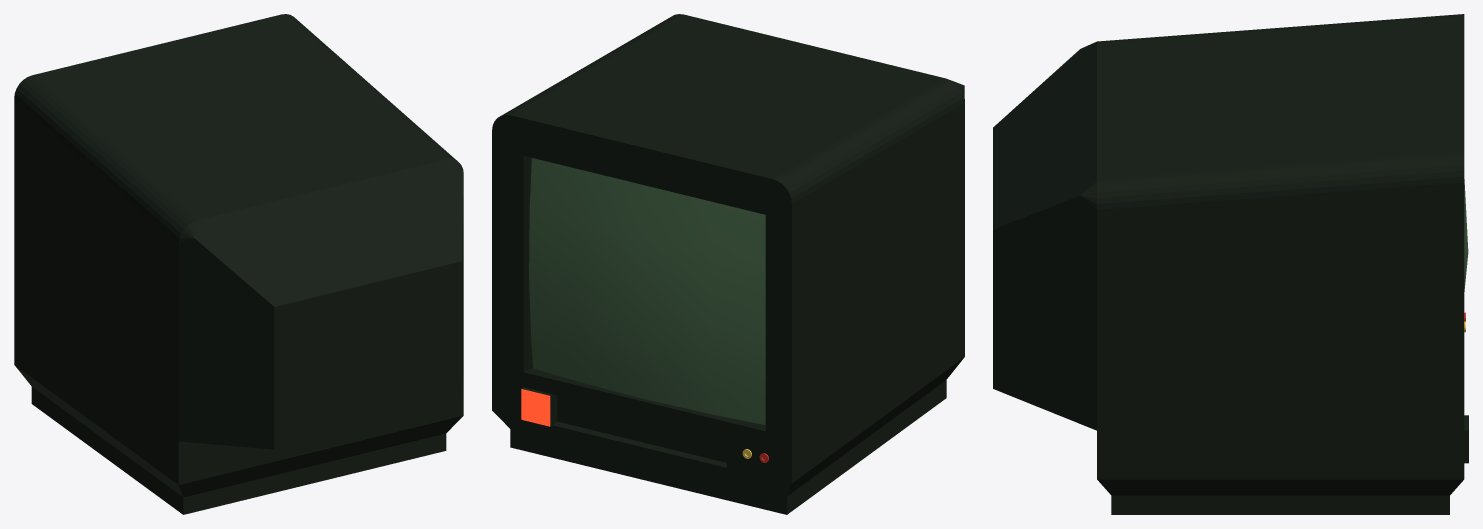
The model's file is TV_prop_noAntenna.fbx.
3 renders of one model, left to right at view 1: azimuth 30°, elevation 25°; view 2: azimuth 150°, elevation 25°; view 3: azimuth 270°, elevation 25°, orthographic. The views are drawn at different scales.
Parts seen in each view (by area): view 1: TV_main; view 2: TV_main, screen; view 3: TV_main.
Part boxes in pixels (x1=…): TV_main: x1=14, y1=14, x2=463, y2=514; TV_main: x1=492, y1=14, x2=964, y2=514; screen: x1=529, y1=158, x2=765, y2=424; TV_main: x1=993, y1=14, x2=1468, y2=514.
Size of the model in its own units: 172 by 186 by 223.
